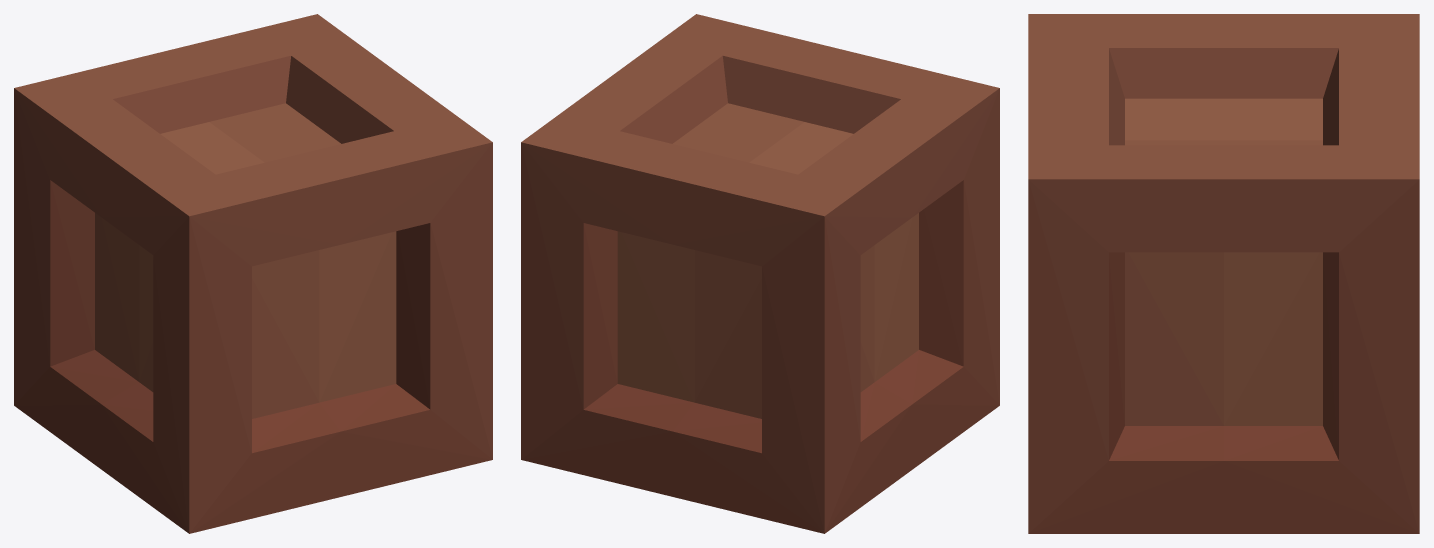
The model's file is crate-q_Ax3LCv.glb.
3 views of the same model, side by side, from view 1: azimuth 30°, elevation 25°; view 2: azimuth 150°, elevation 25°; view 3: azimuth 270°, elevation 25° (orthographic). The views are drawn at different scales.
Parts seen in each view (by area): view 1: crate_A_small; view 2: crate_A_small; view 3: crate_A_small.
Boxes of the visible parts, bbox=[...] form: crate_A_small: bbox=[14, 14, 492, 533]; crate_A_small: bbox=[521, 14, 999, 533]; crate_A_small: bbox=[1028, 14, 1419, 533].
Size of the model in its own units: 0.14 by 0.14 by 0.14.
